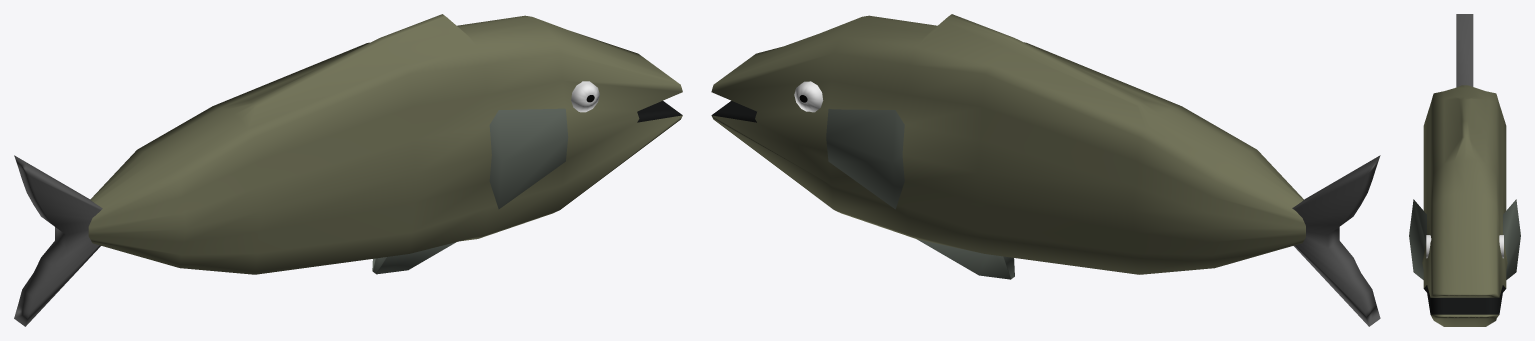
Rendered from FishB.fbx.
3 views of the same model, side by side, from view 1: azimuth 30°, elevation 25°; view 2: azimuth 150°, elevation 25°; view 3: azimuth 270°, elevation 25° (orthographic). The views are drawn at different scales.
Visible parts, largest first — view 1: FishB; view 2: FishB; view 3: FishB.
Boxes of the visible parts, <box> form: FishB: <box>14,14,682,326</box>; FishB: <box>711,14,1380,326</box>; FishB: <box>1409,14,1520,326</box>.
Size of the model in its own units: 0.7763 by 0.2869 by 0.1594.
